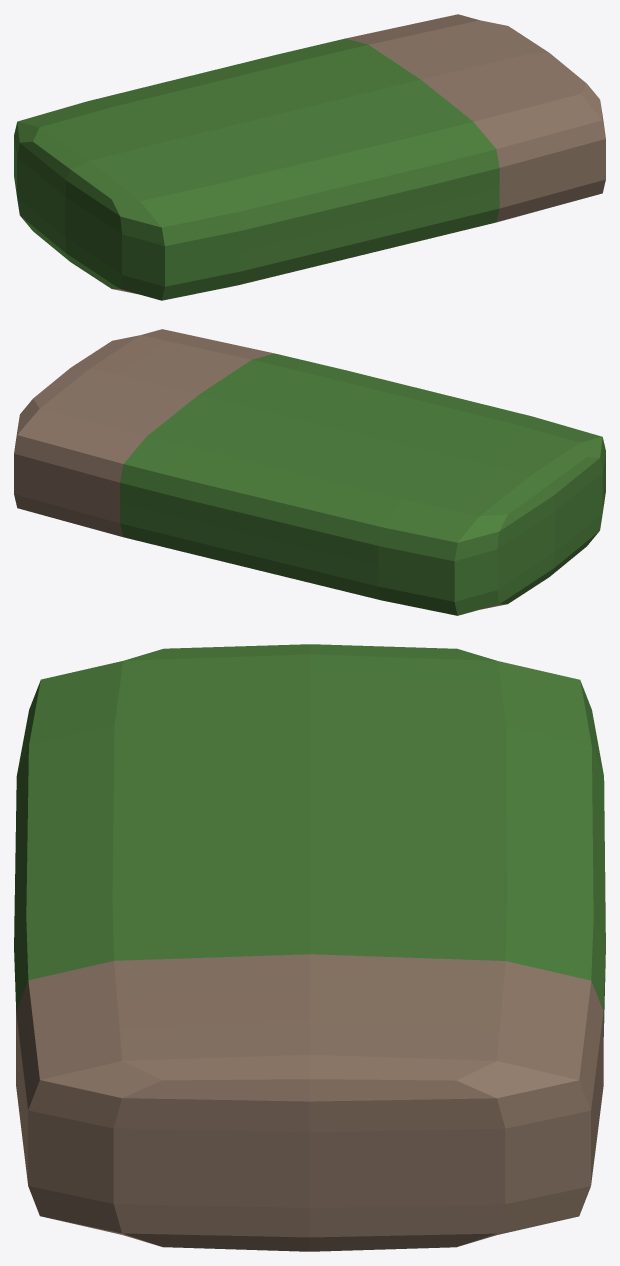
Rendered from SM_Props_CementC1_02.glb.
The picture shows the model from 3 angles, top to bottom: view 1: azimuth 30°, elevation 25°; view 2: azimuth 150°, elevation 25°; view 3: azimuth 270°, elevation 25°; orthographic projection. The views are drawn at different scales.
Visible parts, largest first — view 1: SM_Props_CementC1_02; view 2: SM_Props_CementC1_02; view 3: SM_Props_CementC1_02.
Part boxes in pixels (bbox=[...]): SM_Props_CementC1_02: bbox=[14, 14, 605, 300]; SM_Props_CementC1_02: bbox=[14, 329, 605, 615]; SM_Props_CementC1_02: bbox=[14, 644, 605, 1251].
Size of the model in its own units: 0.6429 by 0.1276 by 0.3621.
1 material, 1 textured.
